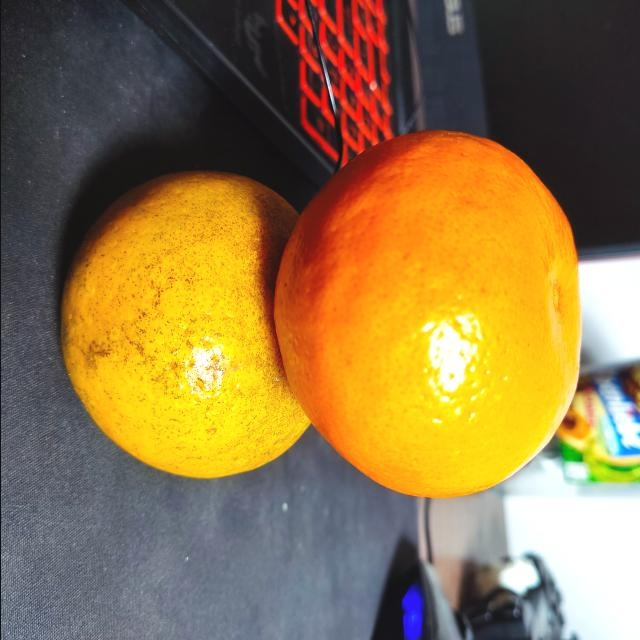agrume: (61, 168, 311, 480)
